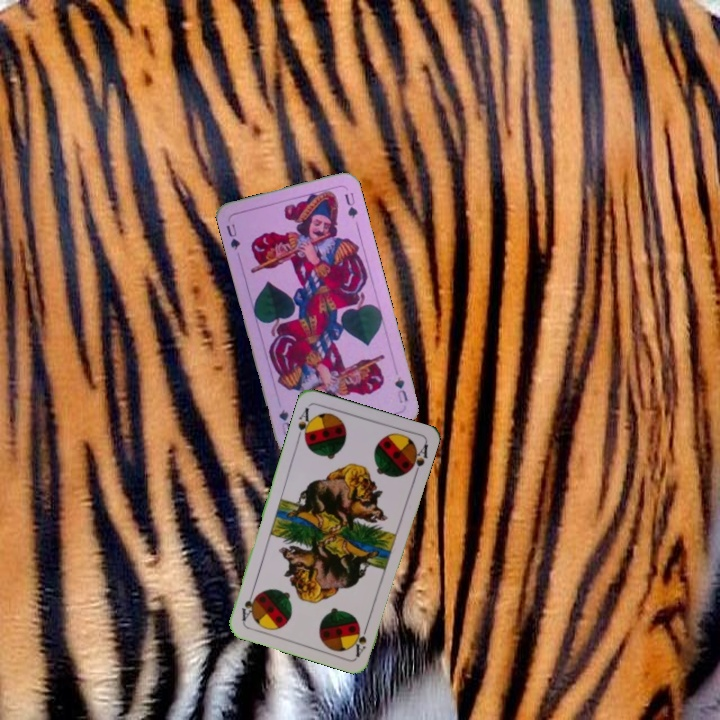GU: (222, 220, 243, 252), (391, 373, 410, 406)
SA: (293, 403, 316, 445), (351, 619, 371, 659)
